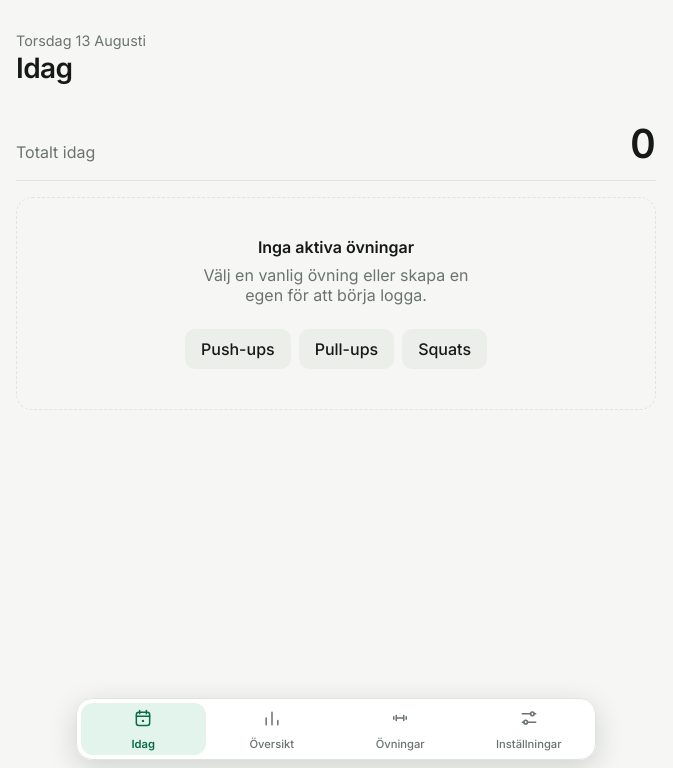
Rep Counter app › deletes a logged entry from the overview
The image size is (673, 768).
Click the button "Push-ups" at (238, 349), box [185,329,291,369]
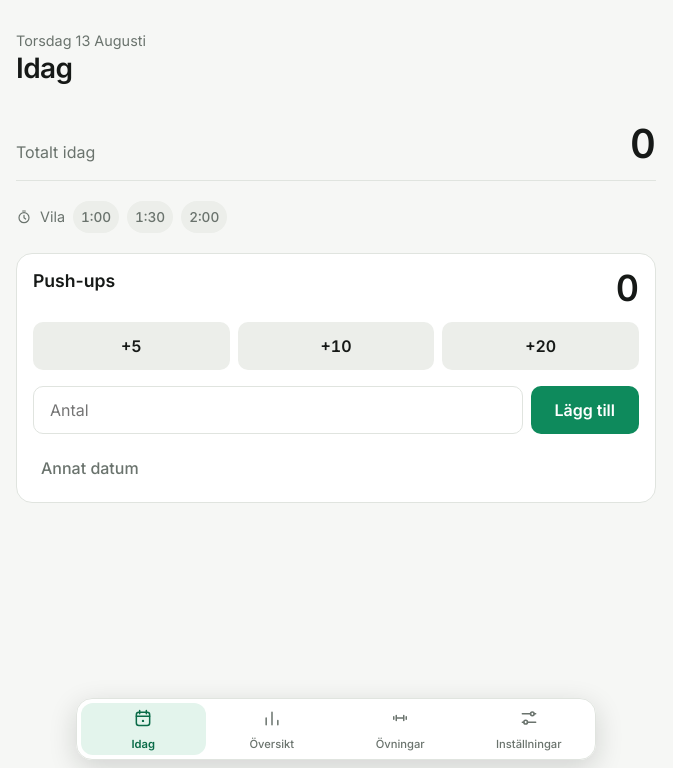
Click the button "+10" at (336, 346), box [238,322,434,370]
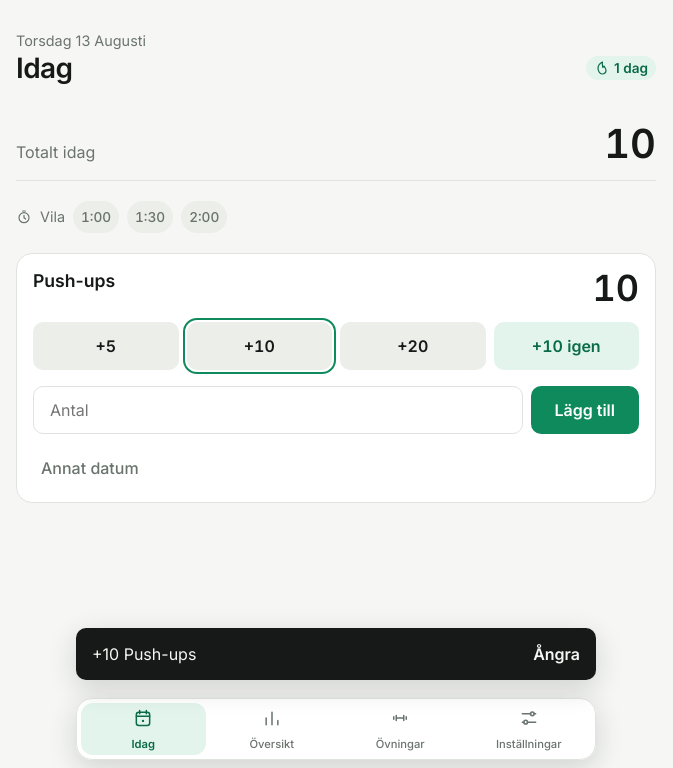
Click the button "Översikt" at (272, 729), box [210,703,334,755]
(page scrolled)
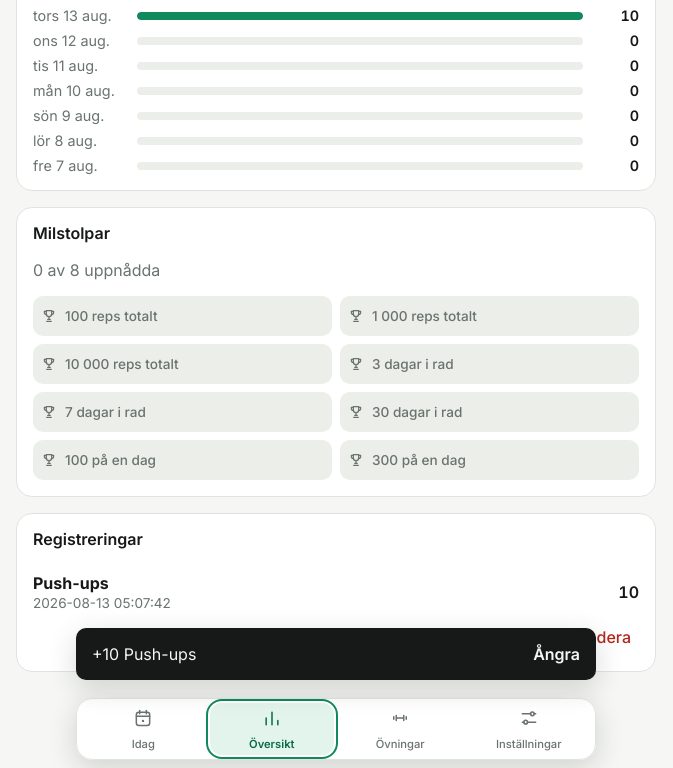
Click the button "Radera" at (604, 637), box [569,619,639,655]
(page scrolled)
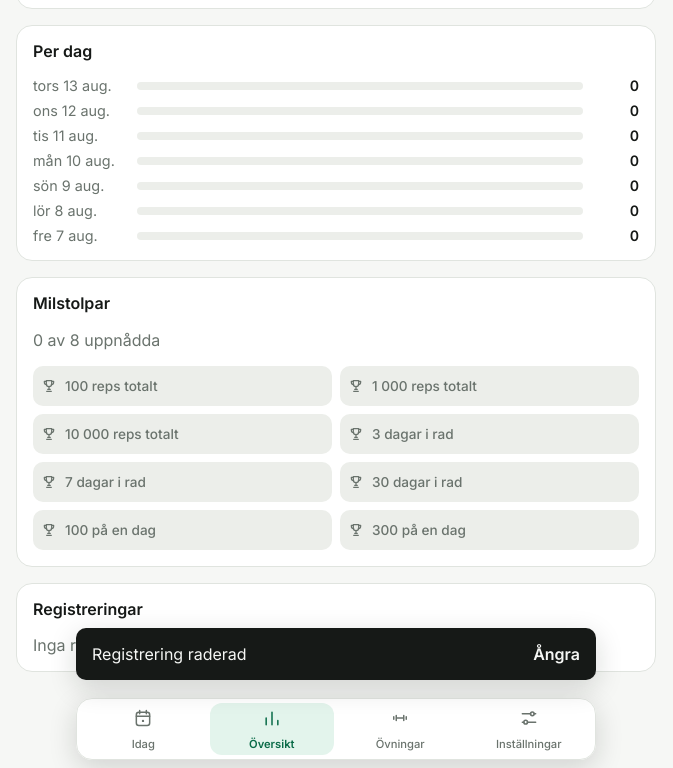
Result: the text "Registrering raderad" is shown at [92,644,247,664]
Result: the text "Inga registreringar matchar filtret." is shown at [33,635,287,655]
